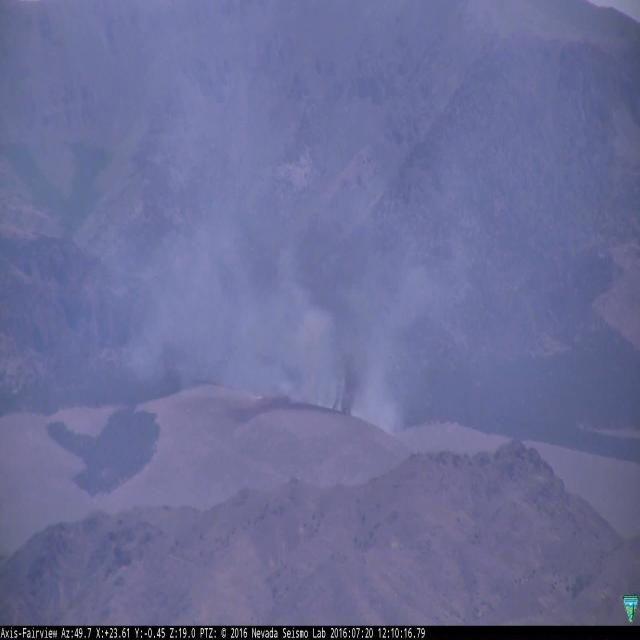smoke: (120, 222, 420, 438)
